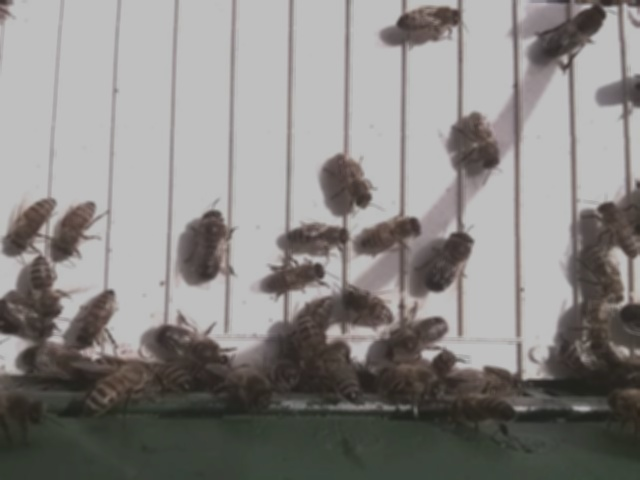Drone: (538, 3, 610, 61), (420, 228, 479, 295), (152, 322, 232, 368), (190, 206, 232, 283), (388, 311, 452, 361)
Worker: (8, 192, 57, 251), (356, 210, 423, 253), (58, 197, 100, 263), (594, 198, 640, 256), (466, 108, 507, 173), (334, 150, 376, 211), (26, 251, 64, 318), (81, 283, 120, 348), (390, 2, 467, 34), (584, 243, 624, 304), (263, 259, 332, 293), (342, 285, 397, 327), (284, 221, 350, 250), (295, 309, 327, 364)
